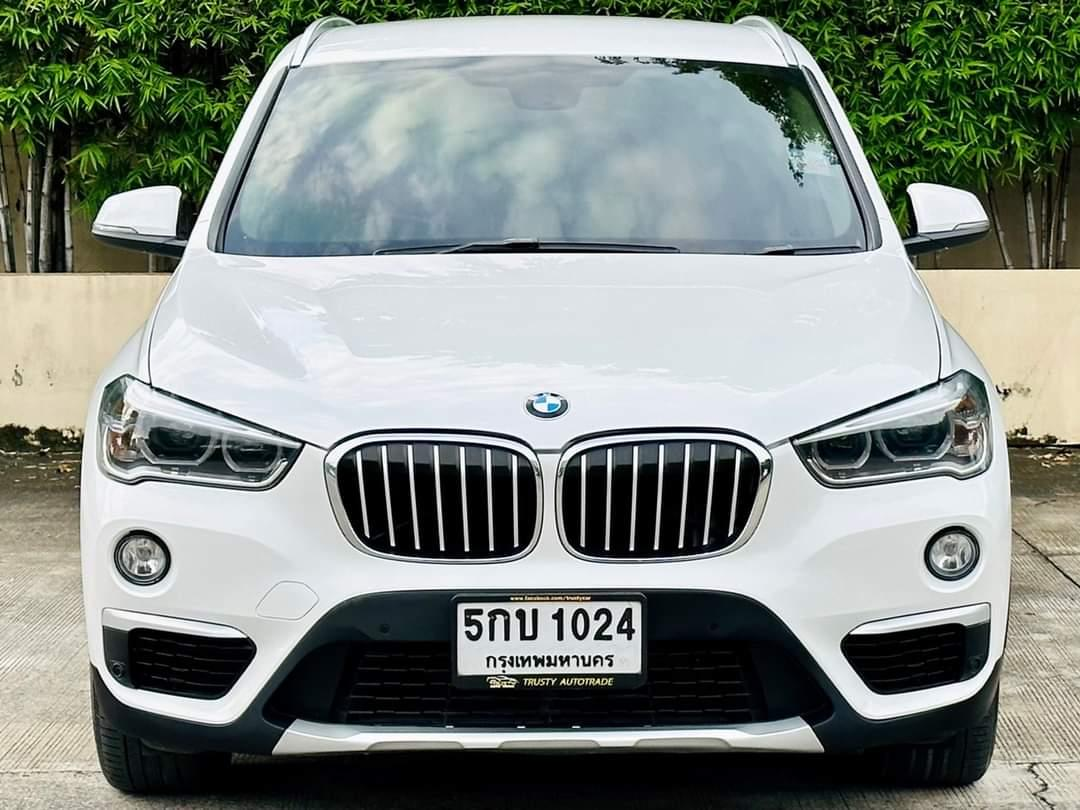license-plate: (444, 589, 652, 698)
